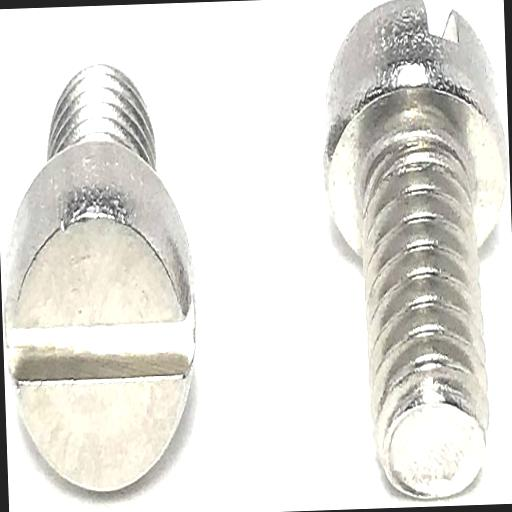Slotted: (0, 135, 202, 504)
